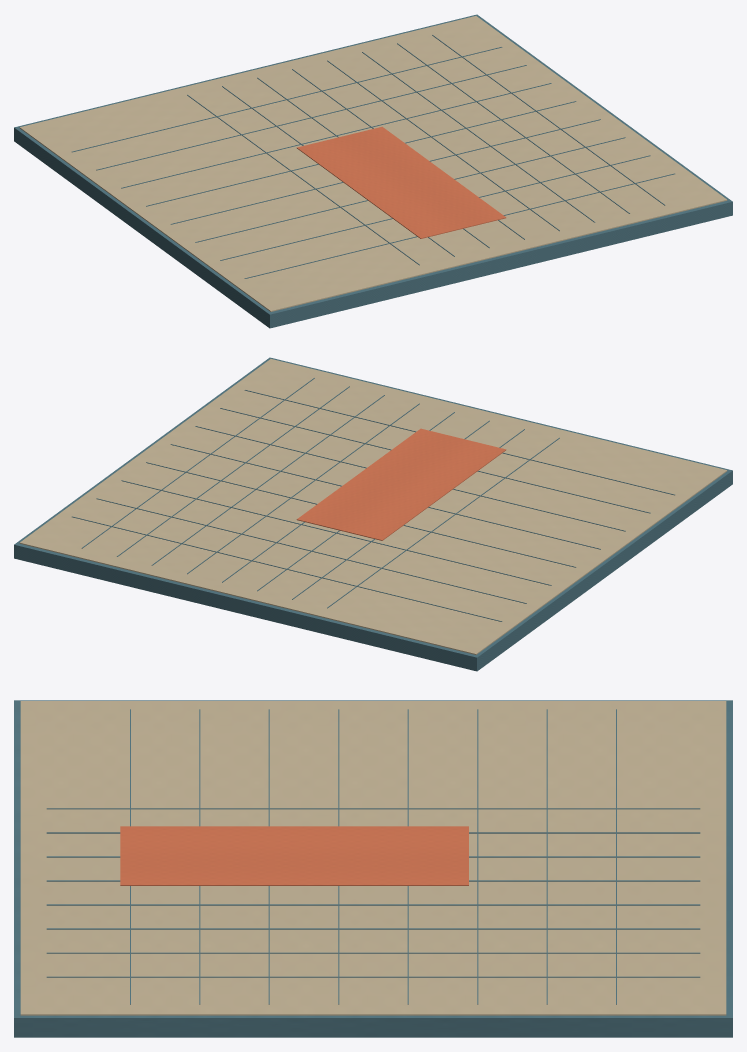
The model's file is atlas100-s045-a07.lod1.glb.
3 views of the same model, one above another, from view 1: azimuth 30°, elevation 25°; view 2: azimuth 150°, elevation 25°; view 3: azimuth 270°, elevation 25° (orthographic). The views are drawn at different scales.
Visible parts, largest first — view 1: atlas100-s045-a07:part-001, atlas100-s045-a07:part-000, atlas100-s045-a07:part-021, atlas100-s045-a07:part-013, atlas100-s045-a07:part-014, atlas100-s045-a07:part-015, atlas100-s045-a07:part-020, atlas100-s045-a07:part-019, atlas100-s045-a07:part-018, atlas100-s045-a07:part-016, atlas100-s045-a07:part-017; view 2: atlas100-s045-a07:part-001, atlas100-s045-a07:part-000, atlas100-s045-a07:part-021, atlas100-s045-a07:part-013, atlas100-s045-a07:part-015, atlas100-s045-a07:part-014, atlas100-s045-a07:part-020, atlas100-s045-a07:part-016, atlas100-s045-a07:part-017, atlas100-s045-a07:part-018, atlas100-s045-a07:part-019; view 3: atlas100-s045-a07:part-001, atlas100-s045-a07:part-000, atlas100-s045-a07:part-021, atlas100-s045-a07:part-010, atlas100-s045-a07:part-009, atlas100-s045-a07:part-012, atlas100-s045-a07:part-005, atlas100-s045-a07:part-011, atlas100-s045-a07:part-006, atlas100-s045-a07:part-007, atlas100-s045-a07:part-008, atlas100-s045-a07:part-014 (+1 smaller).
Boxes of the visible parts, x1,y1,x2,y2 form: atlas100-s045-a07:part-001: (19, 16, 727, 311); atlas100-s045-a07:part-000: (14, 14, 732, 328); atlas100-s045-a07:part-021: (297, 126, 506, 238); atlas100-s045-a07:part-013: (72, 47, 502, 152); atlas100-s045-a07:part-014: (96, 65, 526, 170); atlas100-s045-a07:part-015: (121, 83, 551, 188); atlas100-s045-a07:part-020: (244, 173, 674, 278); atlas100-s045-a07:part-019: (220, 155, 650, 260); atlas100-s045-a07:part-018: (195, 137, 625, 242); atlas100-s045-a07:part-016: (146, 101, 576, 206); atlas100-s045-a07:part-017: (170, 119, 600, 224); atlas100-s045-a07:part-001: (19, 359, 727, 654); atlas100-s045-a07:part-000: (14, 357, 732, 671); atlas100-s045-a07:part-021: (296, 428, 506, 540); atlas100-s045-a07:part-013: (72, 516, 502, 621); atlas100-s045-a07:part-015: (121, 480, 551, 585); atlas100-s045-a07:part-014: (96, 498, 526, 603); atlas100-s045-a07:part-020: (244, 390, 674, 495); atlas100-s045-a07:part-016: (146, 462, 576, 567); atlas100-s045-a07:part-017: (170, 444, 600, 549); atlas100-s045-a07:part-018: (195, 426, 625, 531); atlas100-s045-a07:part-019: (220, 408, 650, 513); atlas100-s045-a07:part-001: (20, 701, 726, 1015); atlas100-s045-a07:part-000: (14, 700, 732, 1037); atlas100-s045-a07:part-021: (120, 826, 468, 885); atlas100-s045-a07:part-010: (46, 928, 700, 929); atlas100-s045-a07:part-009: (46, 904, 700, 905); atlas100-s045-a07:part-012: (46, 976, 700, 977); atlas100-s045-a07:part-005: (46, 808, 700, 809); atlas100-s045-a07:part-011: (46, 952, 700, 953); atlas100-s045-a07:part-006: (46, 832, 700, 833); atlas100-s045-a07:part-007: (46, 856, 700, 857); atlas100-s045-a07:part-008: (46, 880, 700, 881); atlas100-s045-a07:part-014: (546, 709, 547, 1004).
Size of the model in its own units: 11.9 by 0.404 by 11.39.
Materials: 3 (3 with a texture image).
